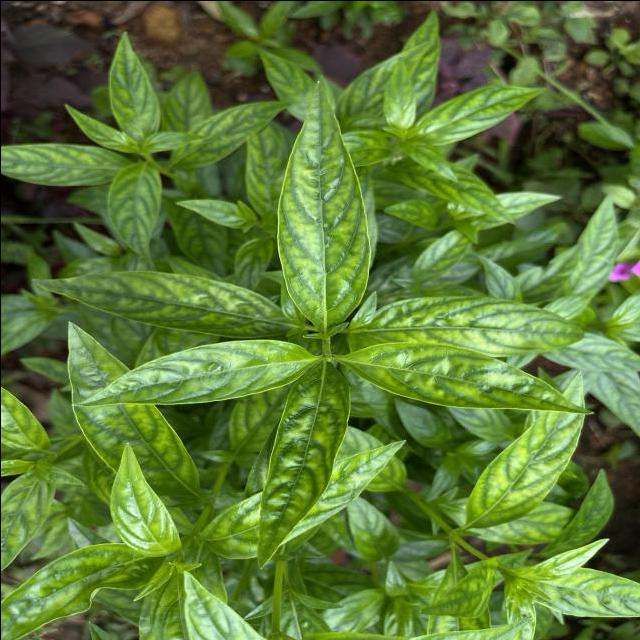Andrographis paniculata: (54, 318, 204, 497), (273, 74, 374, 334), (254, 356, 351, 570), (342, 339, 595, 416), (468, 366, 586, 530), (28, 268, 292, 339), (72, 336, 314, 408), (360, 292, 584, 358), (384, 154, 517, 224), (107, 440, 183, 558), (173, 96, 293, 168), (412, 82, 546, 146), (102, 32, 162, 138), (106, 160, 164, 264), (0, 142, 130, 188), (408, 220, 480, 284), (174, 197, 258, 232)
